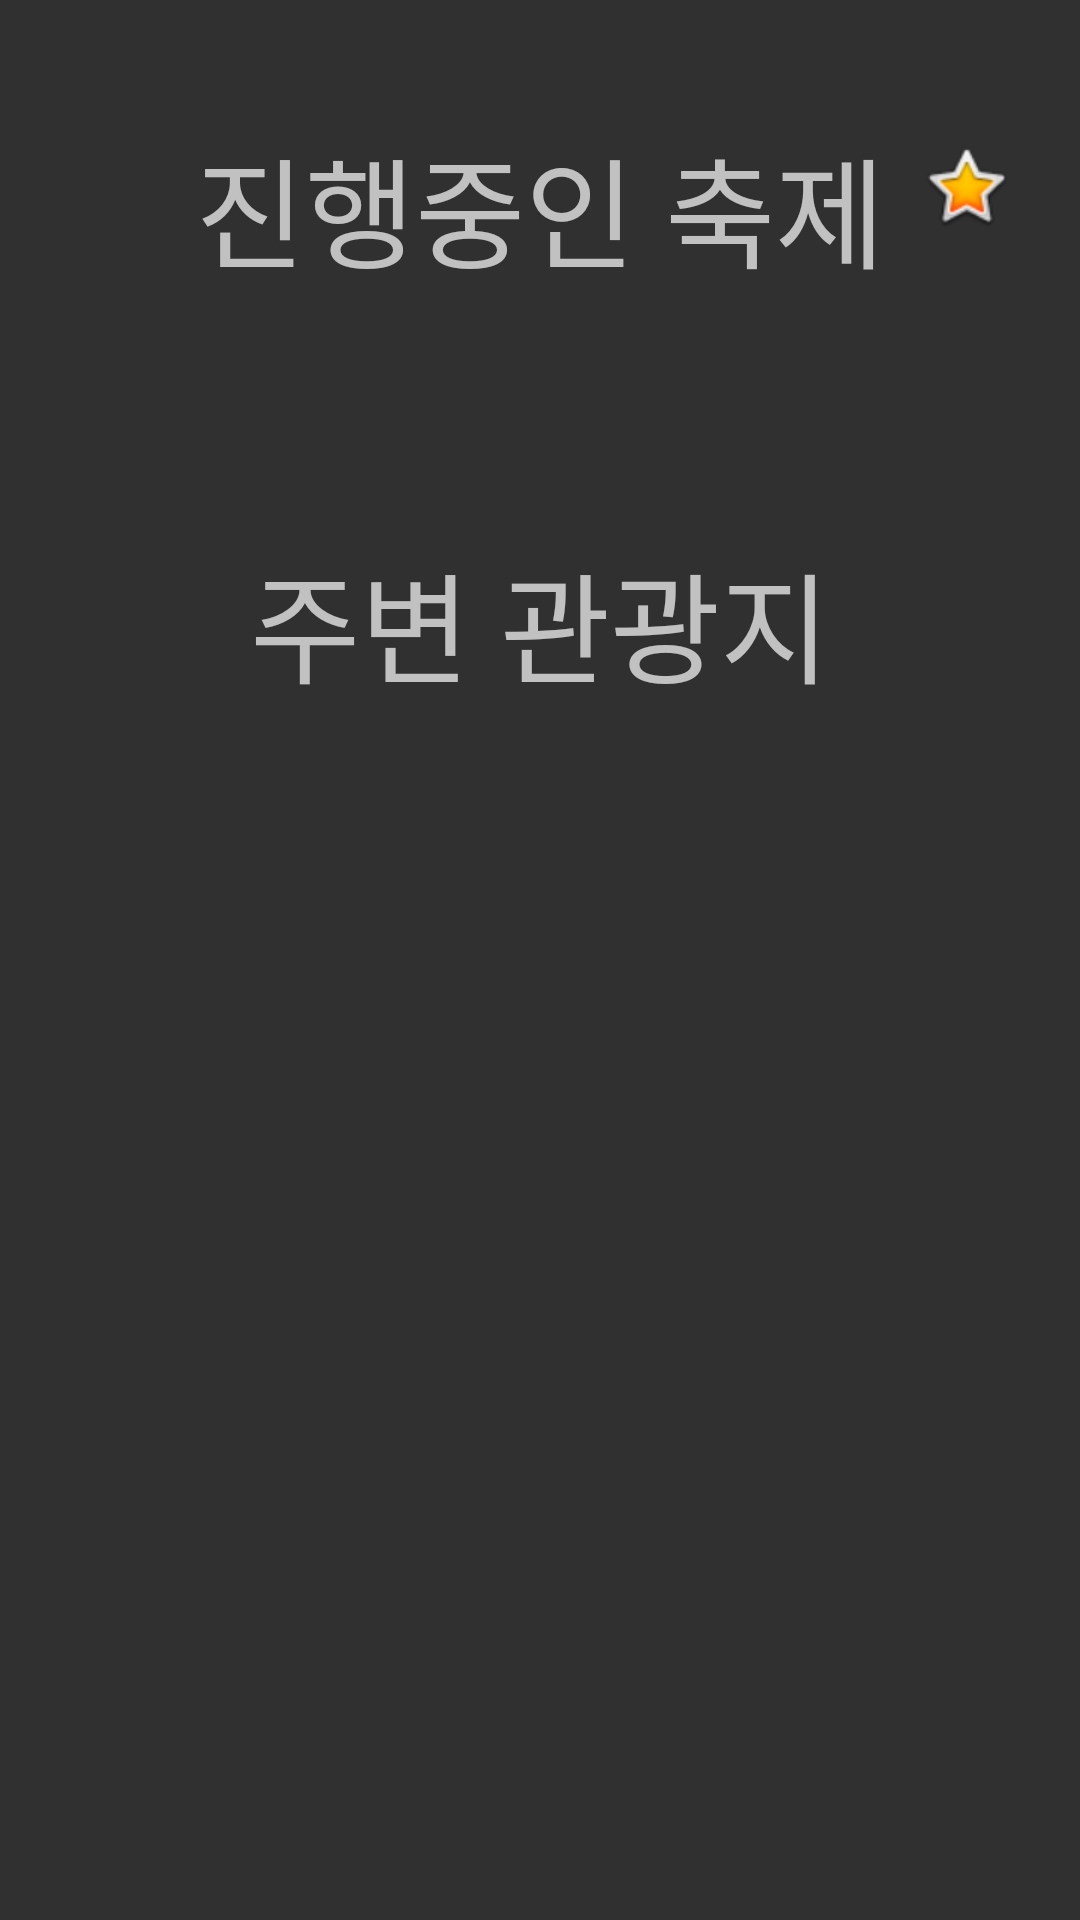

Screen size 1080*1920. Icon name, then its box in pixels as [left=x1, top=y1, right=x2, bottom=y2]:
star on: [left=929, top=149, right=1005, bottom=222]
